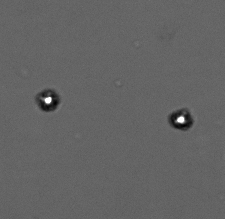Living Cell: (170, 108, 194, 130), (37, 90, 58, 112)
